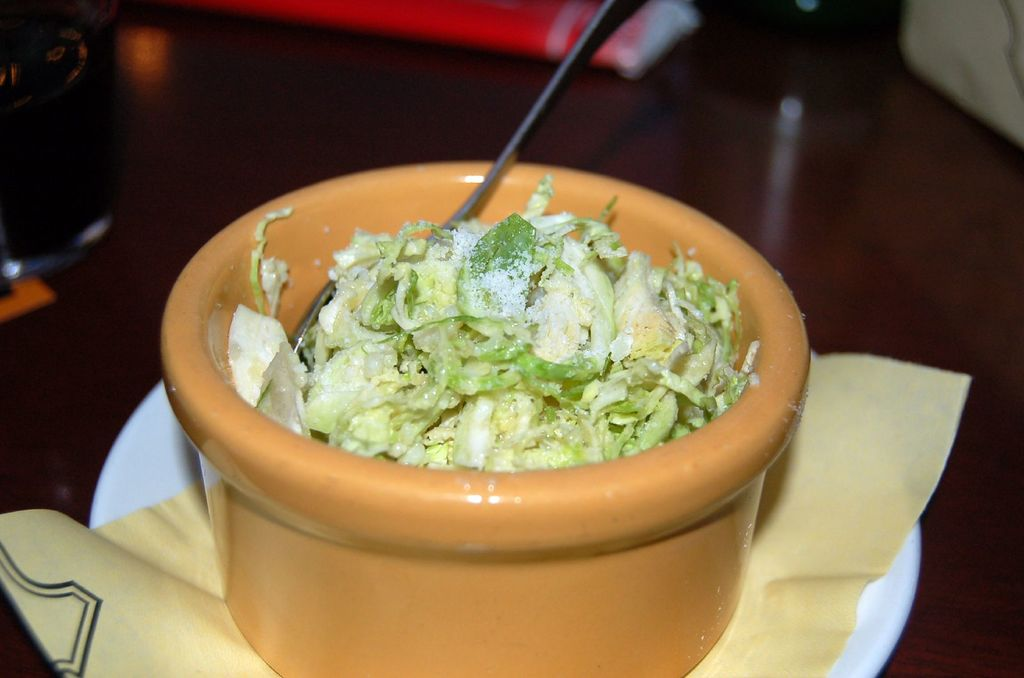Cabbage: (227, 172, 760, 471)
